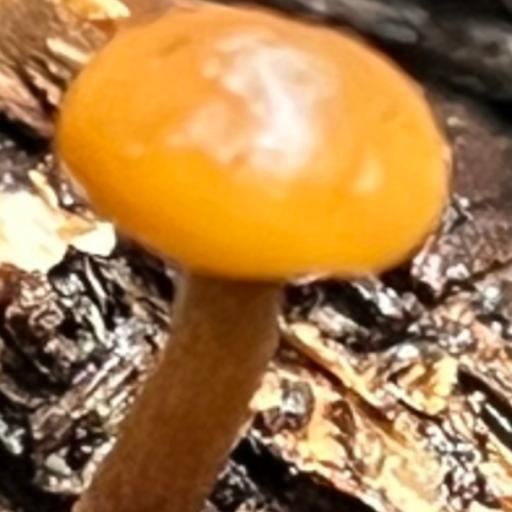mushroom: (55, 6, 454, 431)
